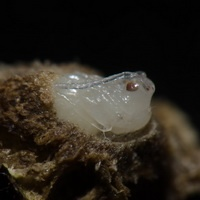insect: (0, 70, 199, 199), (52, 71, 154, 133)
